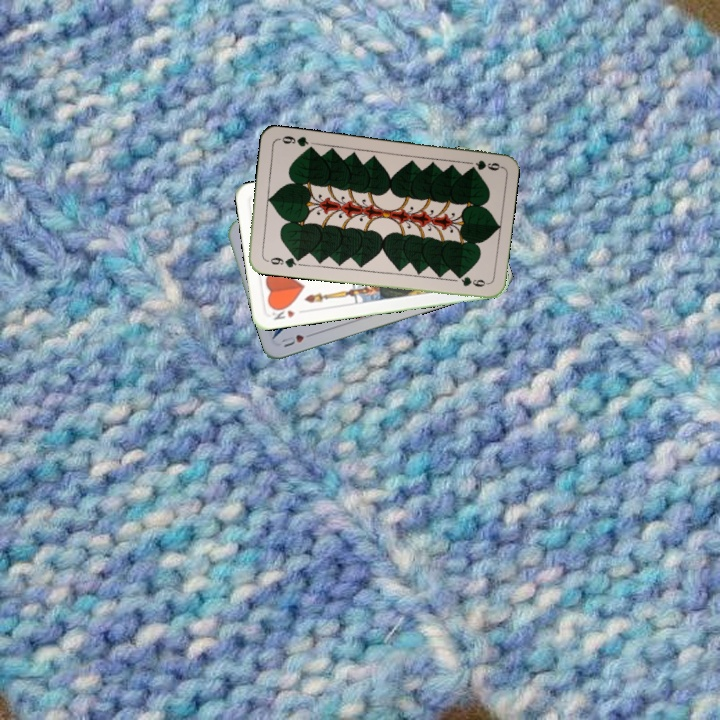G9: (261, 253, 302, 270), (471, 156, 503, 173)
HK: (266, 302, 297, 322)
HU: (277, 329, 316, 350)
